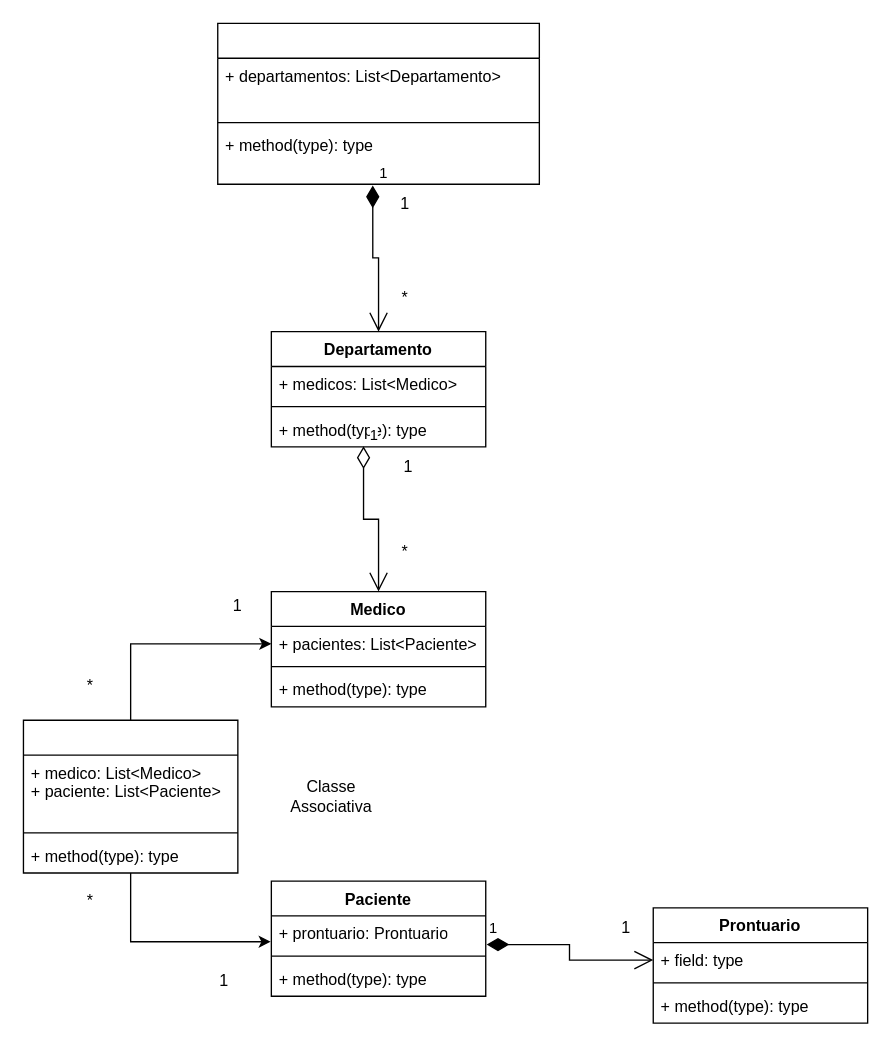
This 891x1051 diagram has some shape labels left out. Here are the shapes that lost their labels. From the top down, the box of each, then its label:
(216, 22, 539, 184): Hospital
(22, 719, 238, 873): Consulta
